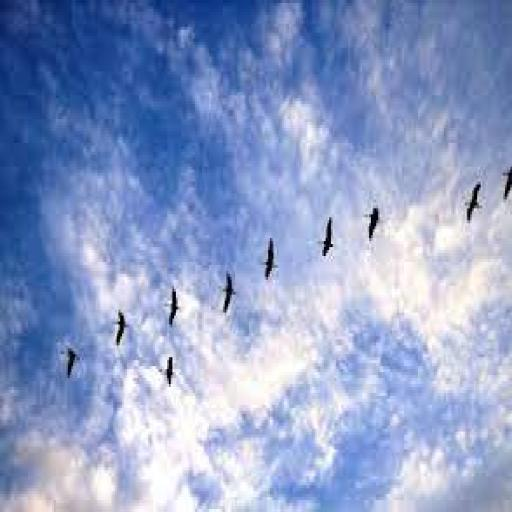birds: (317, 215, 336, 259), (260, 238, 279, 281), (464, 181, 482, 224), (59, 344, 81, 379), (220, 271, 237, 315), (364, 206, 383, 244), (111, 309, 130, 347), (166, 285, 180, 326), (160, 353, 175, 388), (500, 158, 512, 199)
